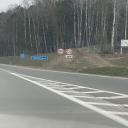speed_limit_100: (55, 48, 65, 55)
speed_limit_120: (65, 48, 74, 56)
